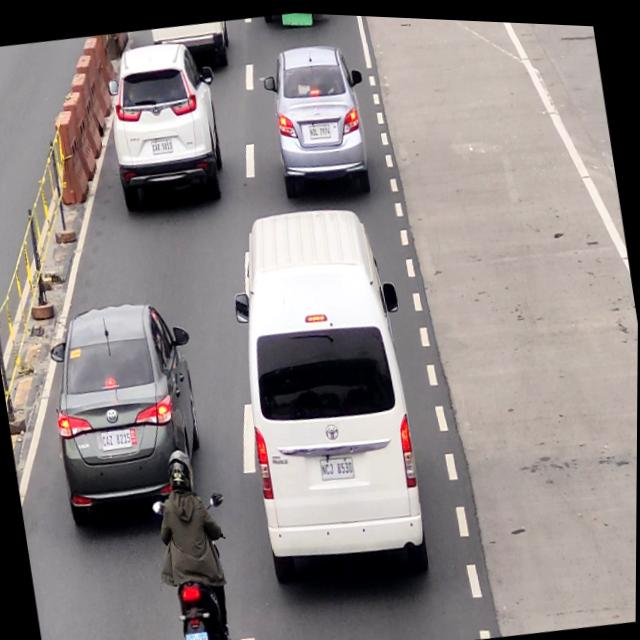Car: (222, 194, 434, 591), (39, 293, 206, 509), (98, 38, 225, 216), (261, 33, 372, 202)
License-Plate: (318, 449, 359, 484), (97, 425, 136, 456), (305, 116, 333, 139), (150, 136, 175, 156), (184, 626, 212, 640)
Motorcycle: (154, 446, 238, 640)
